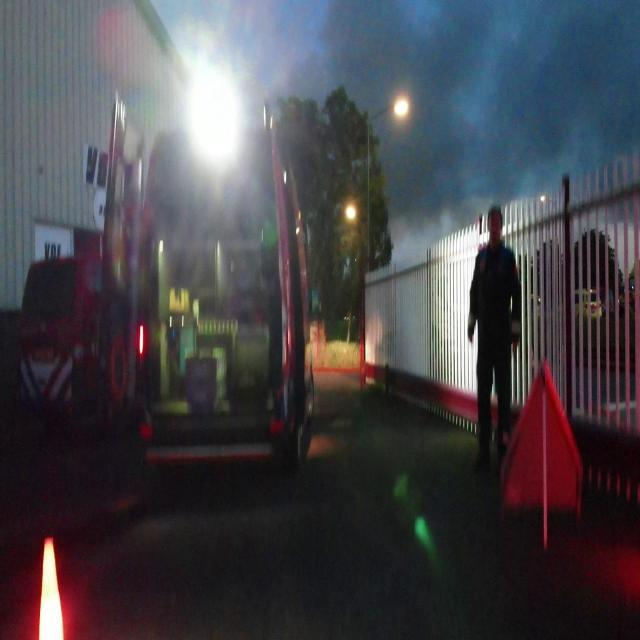Smoke: (278, 0, 638, 242)
